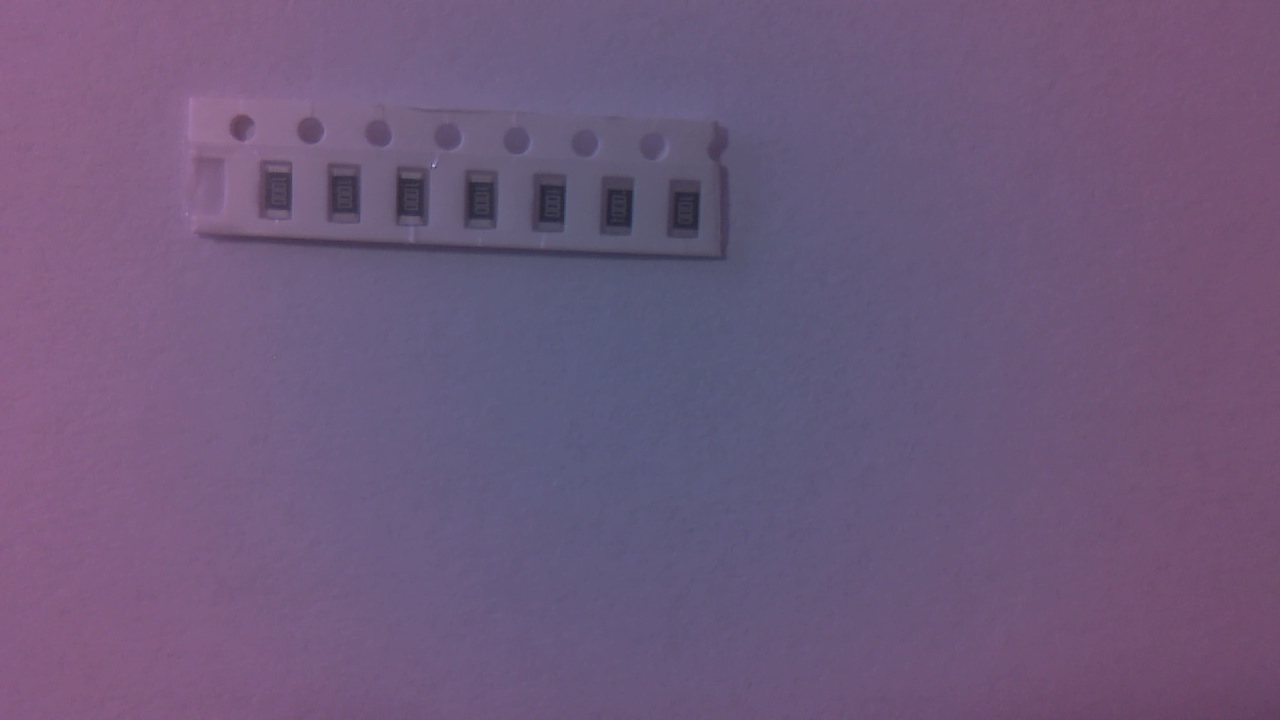Resistor: (472, 176, 507, 239), (333, 168, 369, 229), (403, 171, 439, 230), (538, 179, 572, 241), (605, 184, 641, 240), (266, 165, 298, 226), (672, 184, 706, 241)
